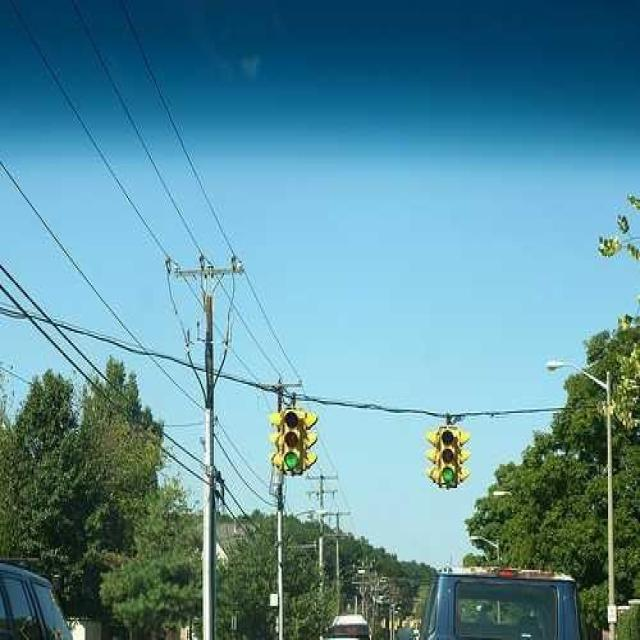Traffic Light -Green-: (278, 406, 306, 478), (435, 425, 461, 490)
Traffic Light -Red-: (435, 425, 461, 490)
